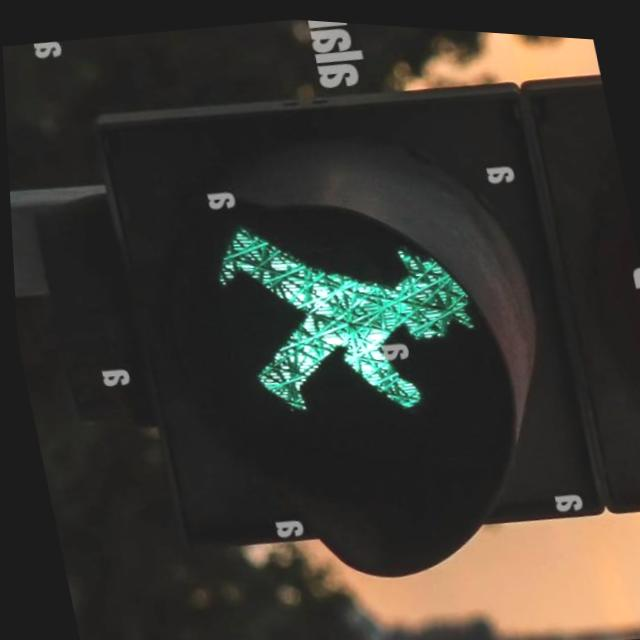green_light: (200, 187, 503, 445)
